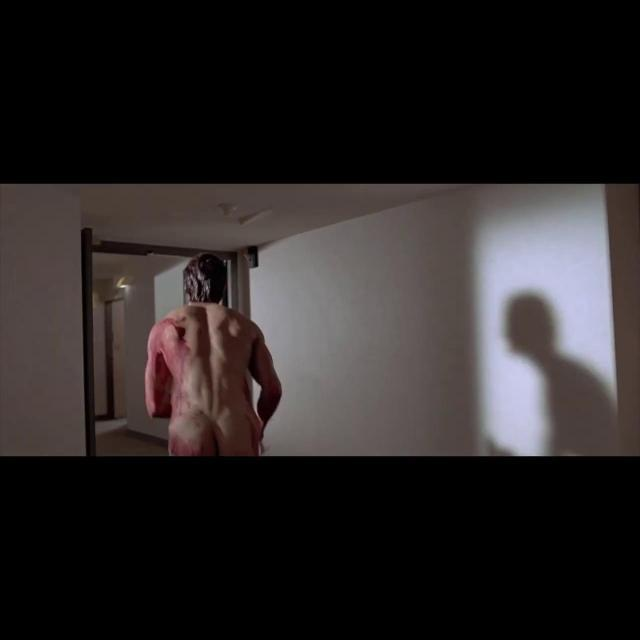blood: (144, 315, 190, 417), (168, 413, 218, 456)
